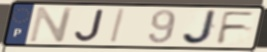9: (146, 9, 177, 45)
F: (214, 10, 258, 46)
I: (108, 7, 128, 45)
J: (180, 9, 219, 46), (73, 9, 106, 43)
N: (27, 6, 76, 43)
